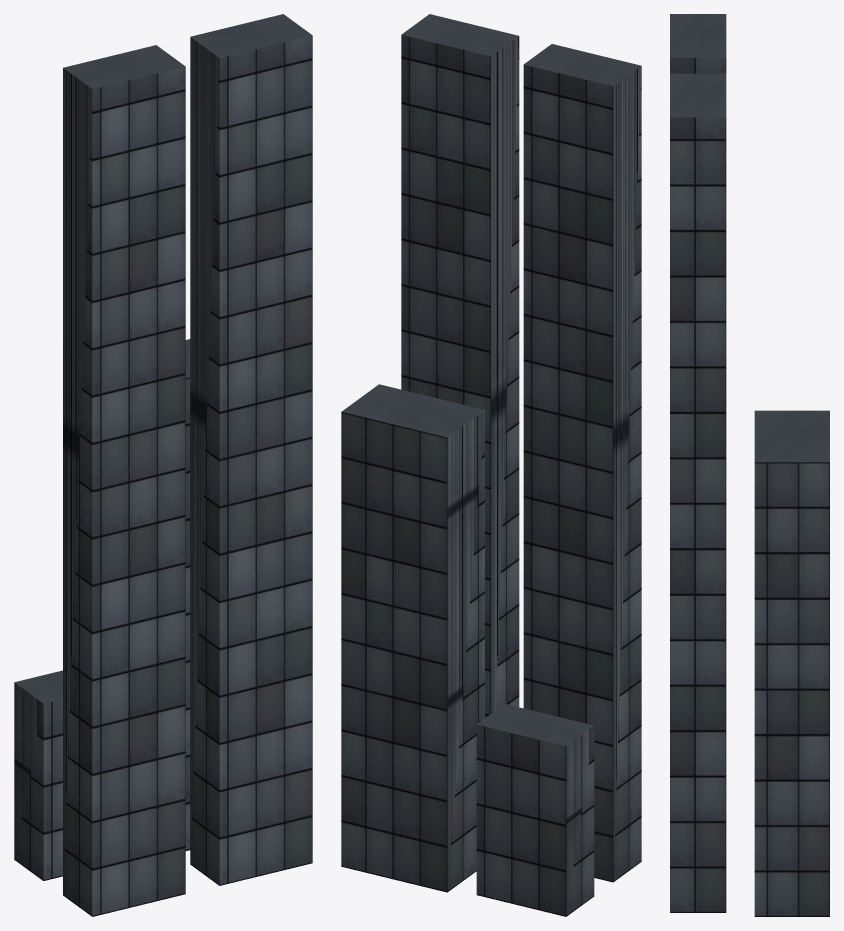
File: block_32.obj
3 views of the same model, side by side, from view 1: azimuth 30°, elevation 25°; view 2: azimuth 150°, elevation 25°; view 3: azimuth 270°, elevation 25° (orthographic). The views are drawn at different scales.
Visible parts, largest first — view 1: b3, b1, b0, b2; view 2: b1, b2, b3, b0; view 3: b3, b2, b1.
Boxes of the visible parts, <box> form: b3: <box>190,14,312,885</box>; b1: <box>63,45,185,916</box>; b0: <box>14,670,62,880</box>; b2: <box>185,339,190,850</box>; b1: <box>523,44,641,882</box>; b2: <box>341,384,484,892</box>; b3: <box>401,14,519,717</box>; b0: <box>476,704,594,916</box>; b3: <box>670,73,726,912</box>; b2: <box>754,410,829,916</box>; b1: <box>670,14,726,73</box>.
Bounding box in the file's own units: 4.05 × 14 × 2.55.
